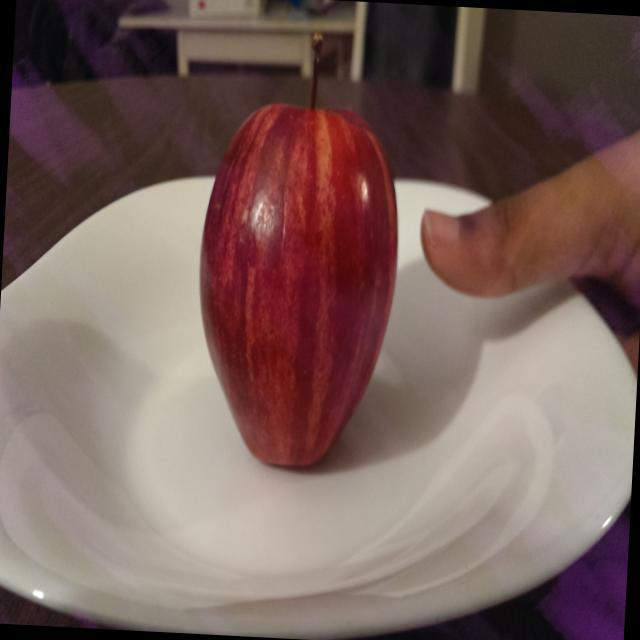Apple: (182, 16, 414, 486)
Finger: (406, 165, 544, 331)
